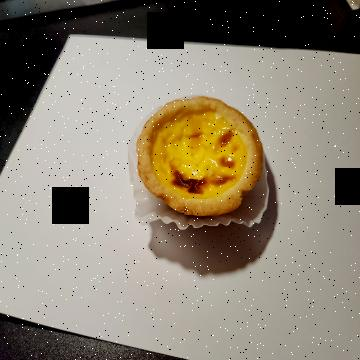EggTart: (136, 96, 262, 217)
